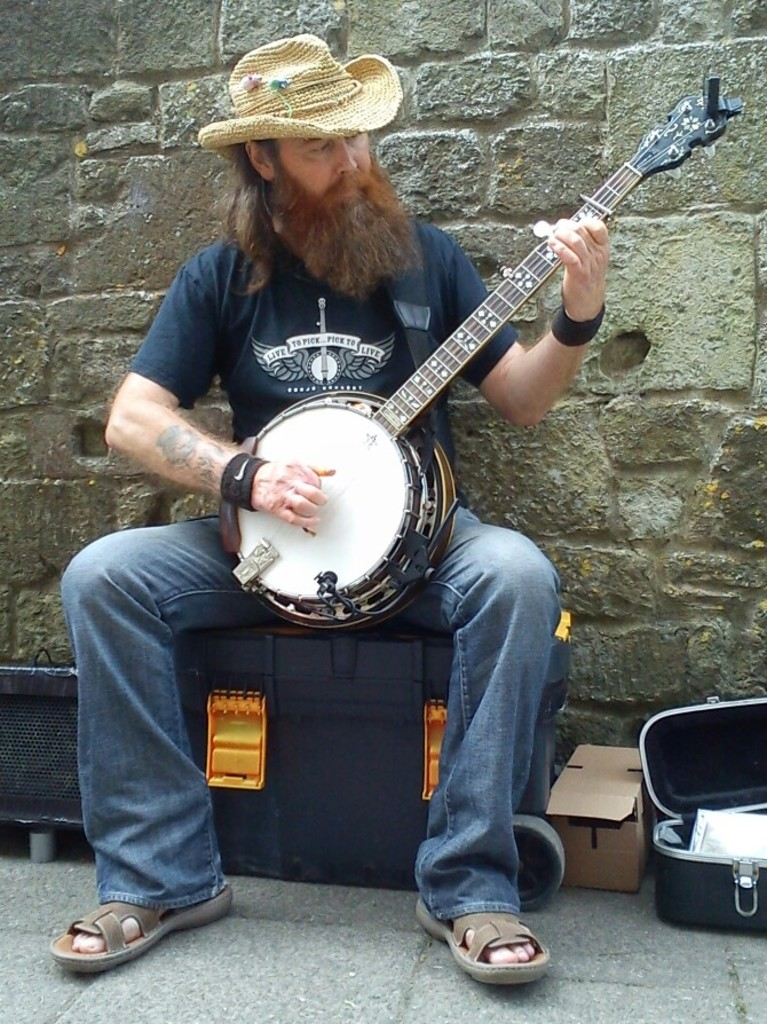Person: (49, 33, 609, 983)
